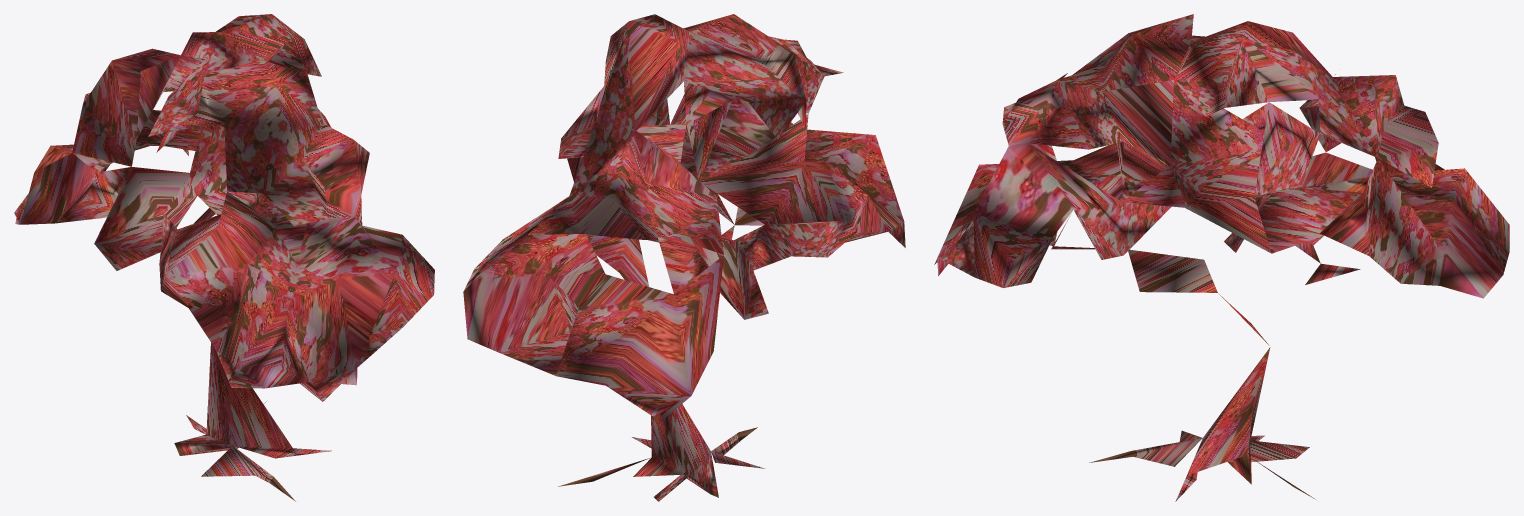
Rendered from garden-tree-far-D02eqaqu.glb.
3 renders of one model, left to right at view 1: azimuth 30°, elevation 25°; view 2: azimuth 150°, elevation 25°; view 3: azimuth 270°, elevation 25°, orthographic. The views are drawn at different scales.
Visible parts, largest first — view 1: tripo_node_8c94464d-5772-4ce6-a348-80ca050263d6; view 2: tripo_node_8c94464d-5772-4ce6-a348-80ca050263d6; view 3: tripo_node_8c94464d-5772-4ce6-a348-80ca050263d6.
Part boxes in pixels (<box>): tripo_node_8c94464d-5772-4ce6-a348-80ca050263d6: <box>14,14,434,501</box>; tripo_node_8c94464d-5772-4ce6-a348-80ca050263d6: <box>463,14,905,501</box>; tripo_node_8c94464d-5772-4ce6-a348-80ca050263d6: <box>934,14,1509,501</box>.
Bounding box in the file's own units: 0.4686 × 0.8398 × 0.9649.
Materials: 1 (1 with a texture image).
